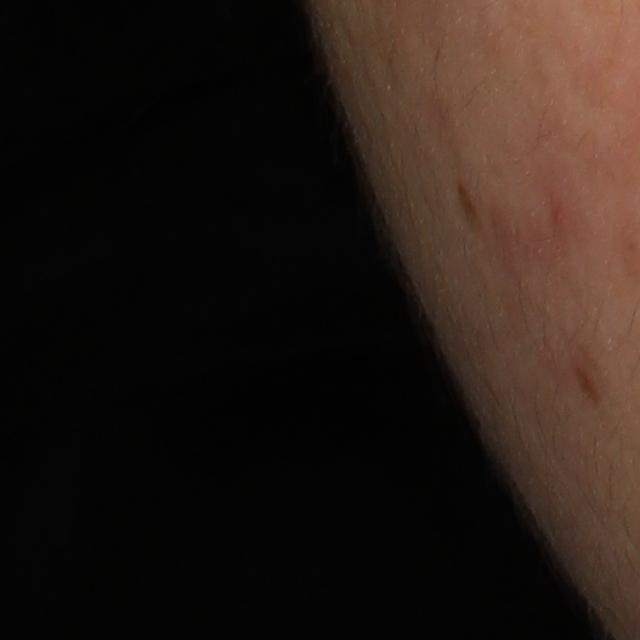papule: (549, 198, 573, 233)
